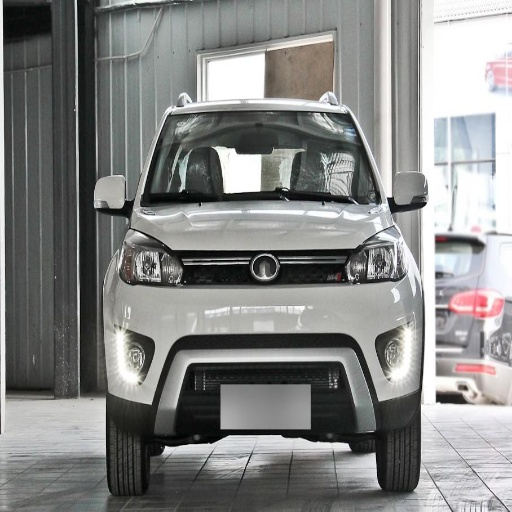front_bumper: (107, 246, 421, 440)
front_right_light: (119, 235, 184, 286)
hood: (133, 200, 391, 251)
left_mirror: (390, 172, 429, 212)
